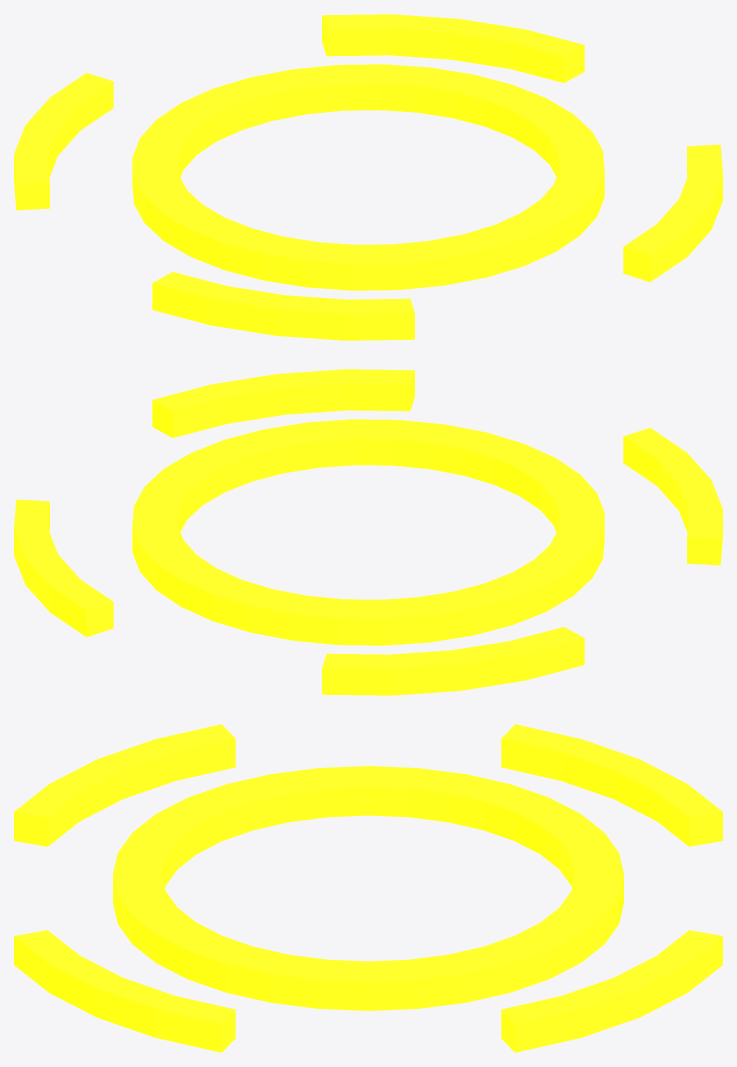
Rendered from clickMarker.fbx.
The picture shows the model from 3 angles, top to bottom: view 1: azimuth 30°, elevation 25°; view 2: azimuth 150°, elevation 25°; view 3: azimuth 270°, elevation 25°; orthographic projection. The views are drawn at different scales.
Visible parts, largest first — view 1: Circle.001; view 2: Circle.001; view 3: Circle.001.
Part boxes in pixels (x1,y1,x2,y2): Circle.001: (14, 14, 722, 340); Circle.001: (14, 369, 722, 695); Circle.001: (14, 724, 722, 1052).
Bounding box in the file's own units: 222 × 10 × 222.
